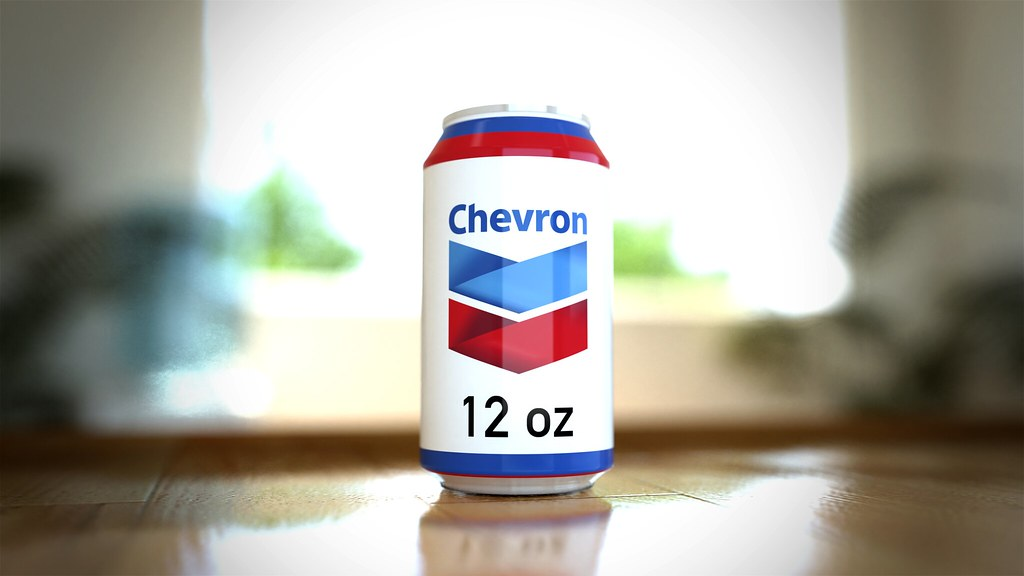Can: (417, 97, 628, 488)
